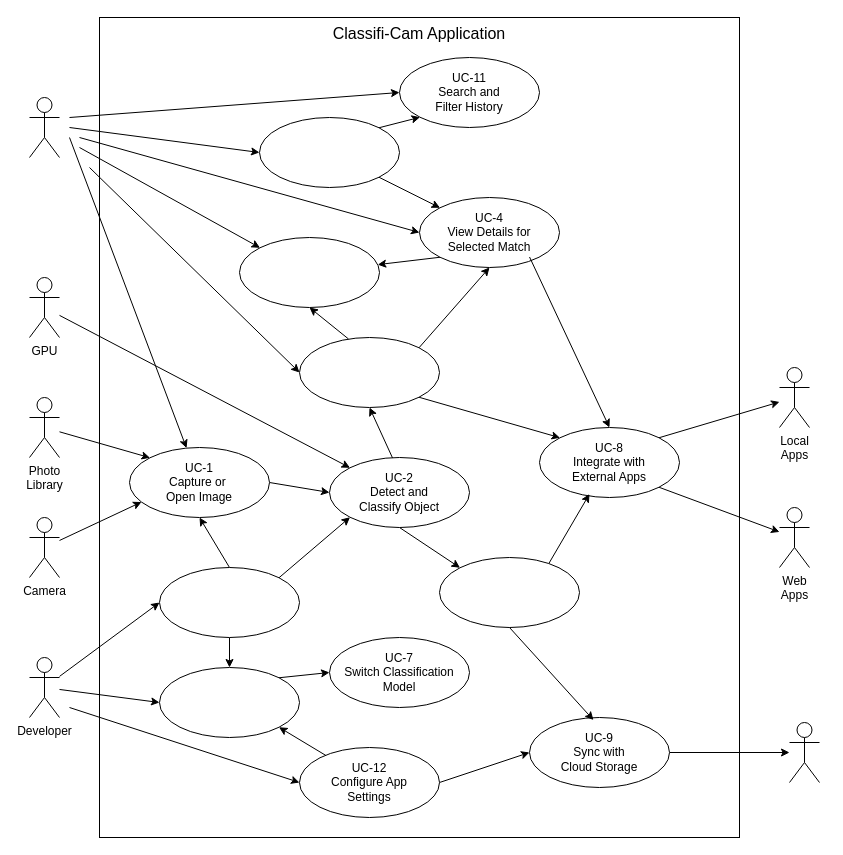
Image size: 843x855. Some labels were removed from this diagram. Here are the shapes that lost their labels. From the top down, the box of each, then its label:
(28, 96, 60, 158): User
(258, 116, 400, 188): UC-5 View and Manage History
(238, 236, 380, 308): UC-13 View and Manage Favorites
(298, 336, 440, 408): UC-3 Show Matches for Selected Objects
(158, 566, 300, 638): UC-14 Handle Invalid Models or Images
(438, 556, 580, 628): UC-10 Export Classification Results
(158, 666, 300, 738): UC-6 Manage Models
(788, 722, 820, 782): Cloud Storage
